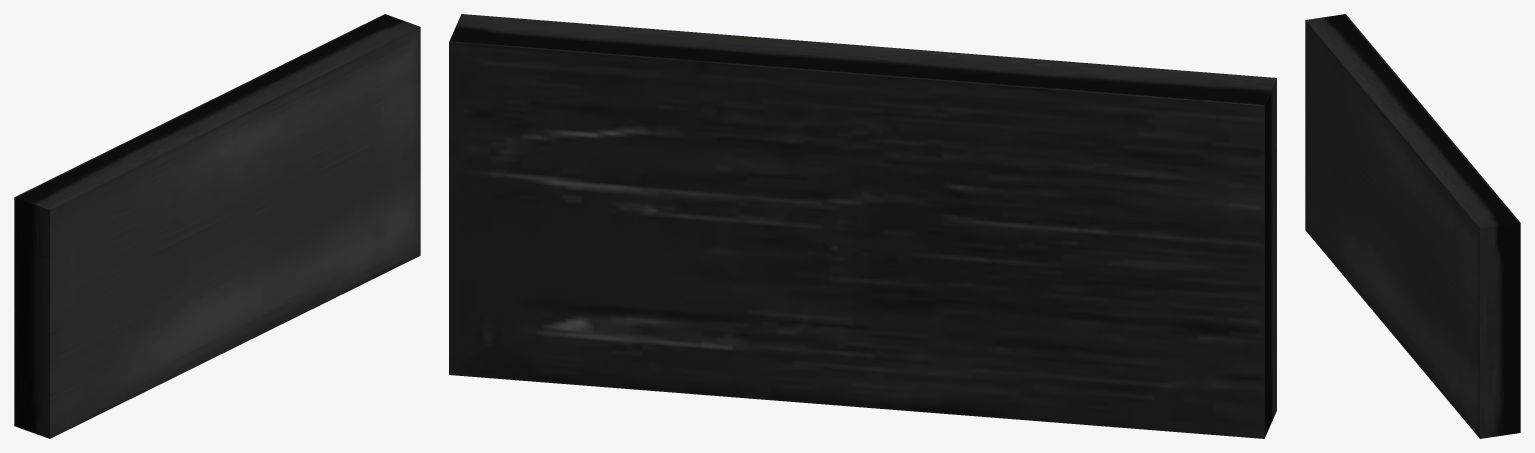
The model's file is backrest__back_pad.glb.
The picture shows the model from 3 angles, left to right: view 1: azimuth 30°, elevation 25°; view 2: azimuth 150°, elevation 25°; view 3: azimuth 270°, elevation 25°; orthographic projection. The views are drawn at different scales.
Parts seen in each view (by area): view 1: world; view 2: world; view 3: world.
Boxes of the visible parts, x1,y1,x2,y2 form: world: (14, 14, 420, 438); world: (449, 14, 1276, 438); world: (1305, 14, 1520, 438).
Bounding box in the file's own units: 0.5918 × 0.27 × 0.2506.
1 material, 1 textured.
